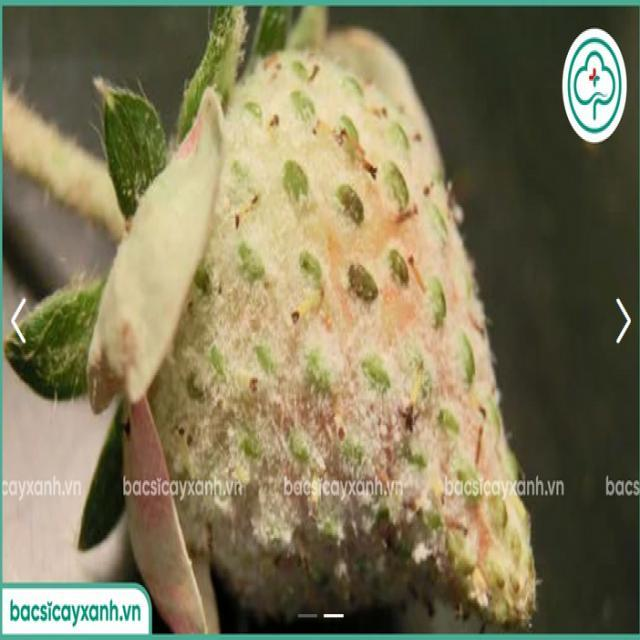Oído: (123, 32, 539, 627)
